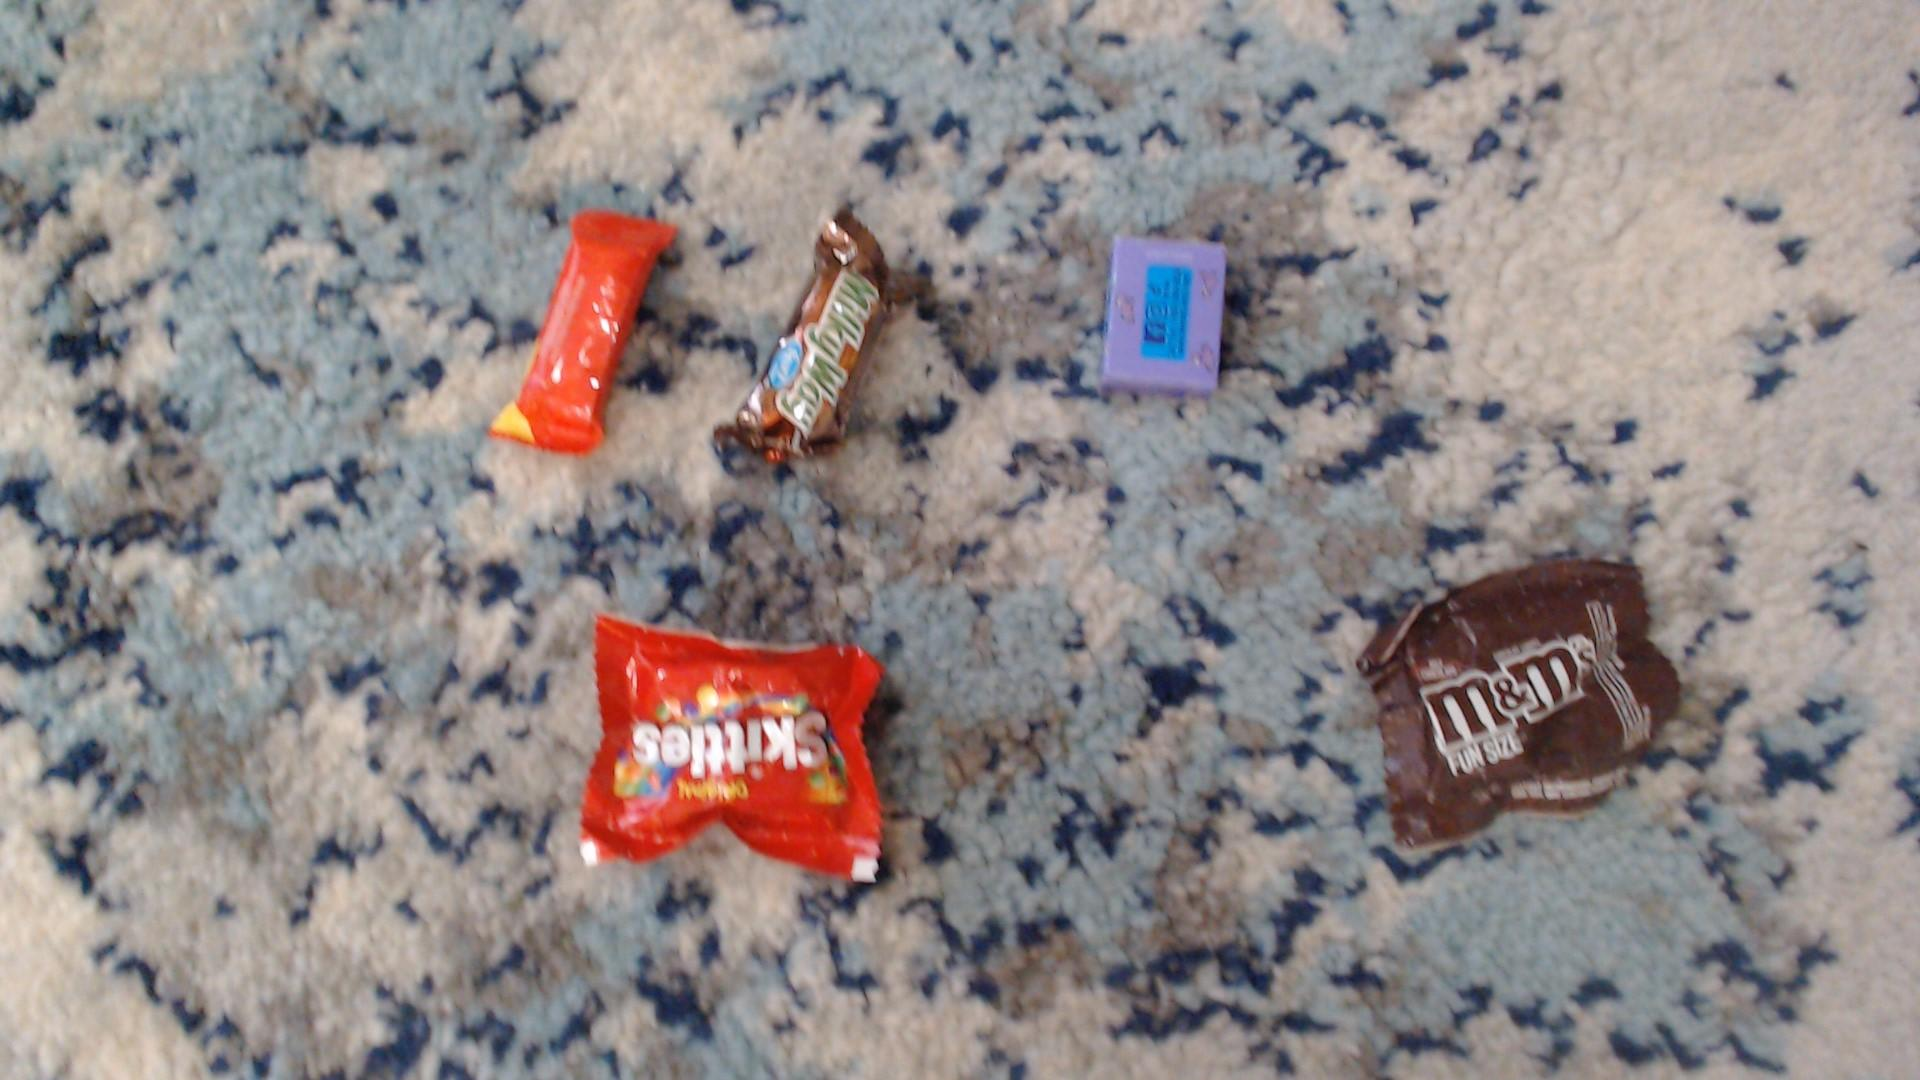MM_regular: (1350, 554, 1676, 847)
milky_way: (705, 210, 910, 463)
nerds: (1097, 237, 1228, 401)
skittles: (583, 618, 890, 880)
starburst: (487, 211, 673, 455)
